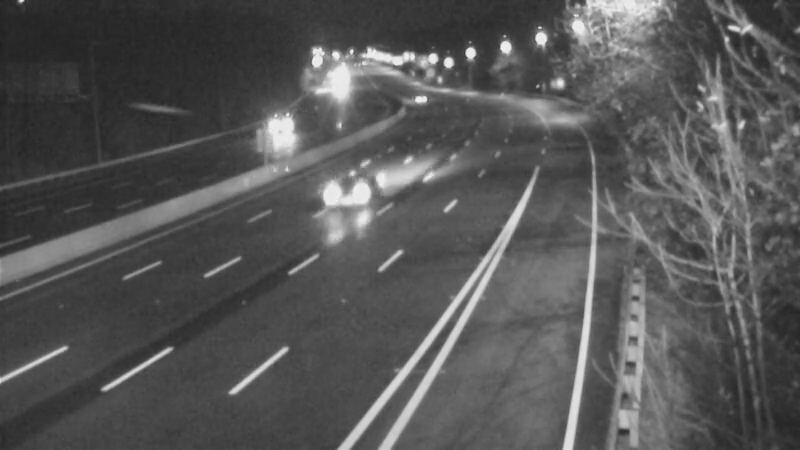vehicle: (296, 151, 376, 231), (389, 73, 439, 123), (259, 103, 309, 153), (313, 63, 363, 113)
